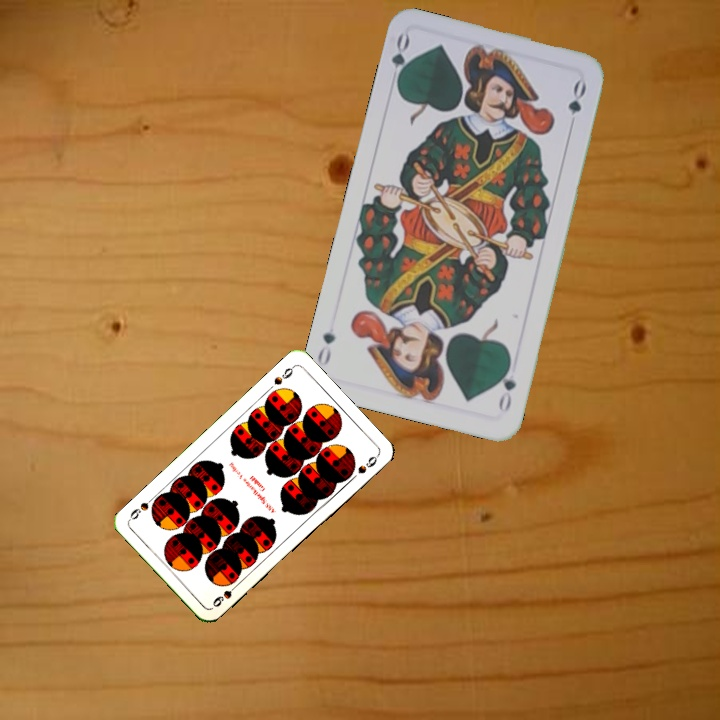GO: (386, 30, 415, 90), (494, 357, 519, 416)
S9: (208, 579, 242, 610), (270, 362, 297, 388)
